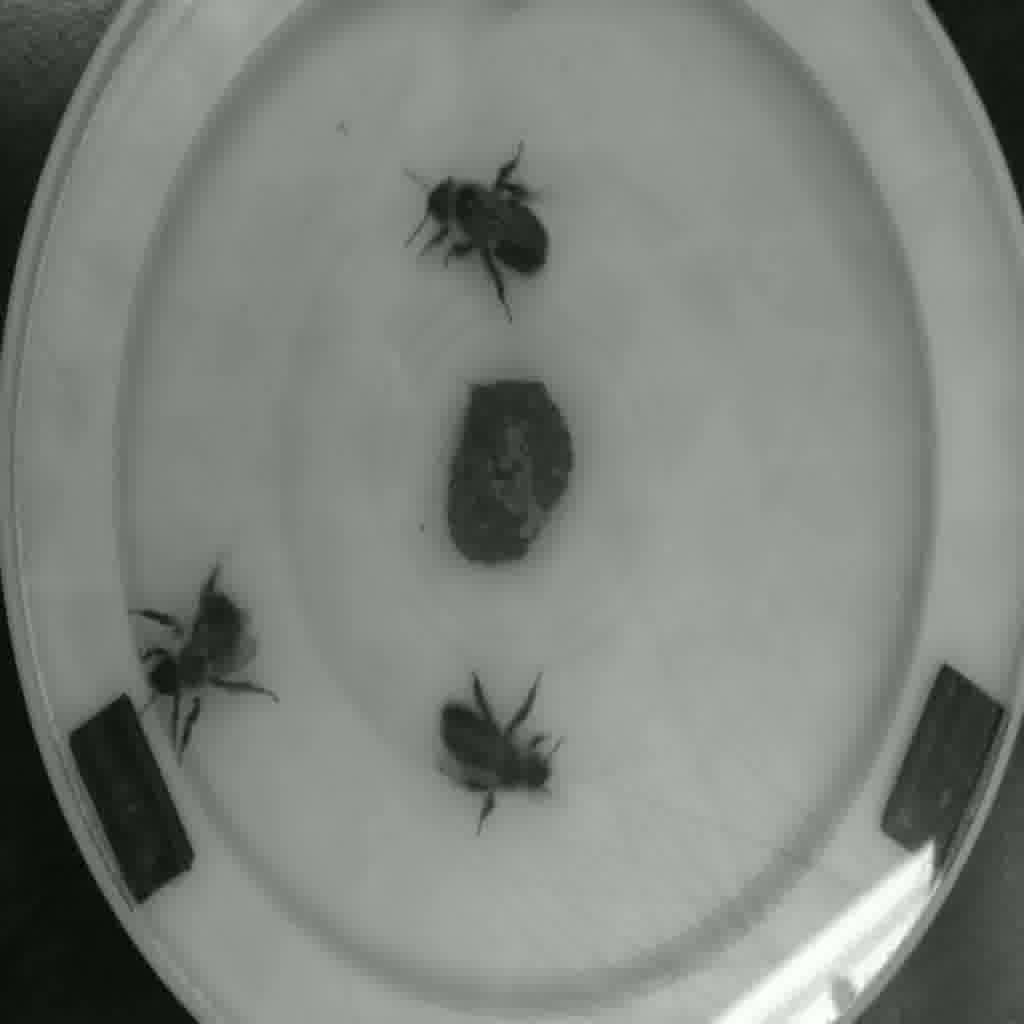bee: (135, 589, 286, 731), (423, 131, 537, 305), (449, 686, 561, 820)
